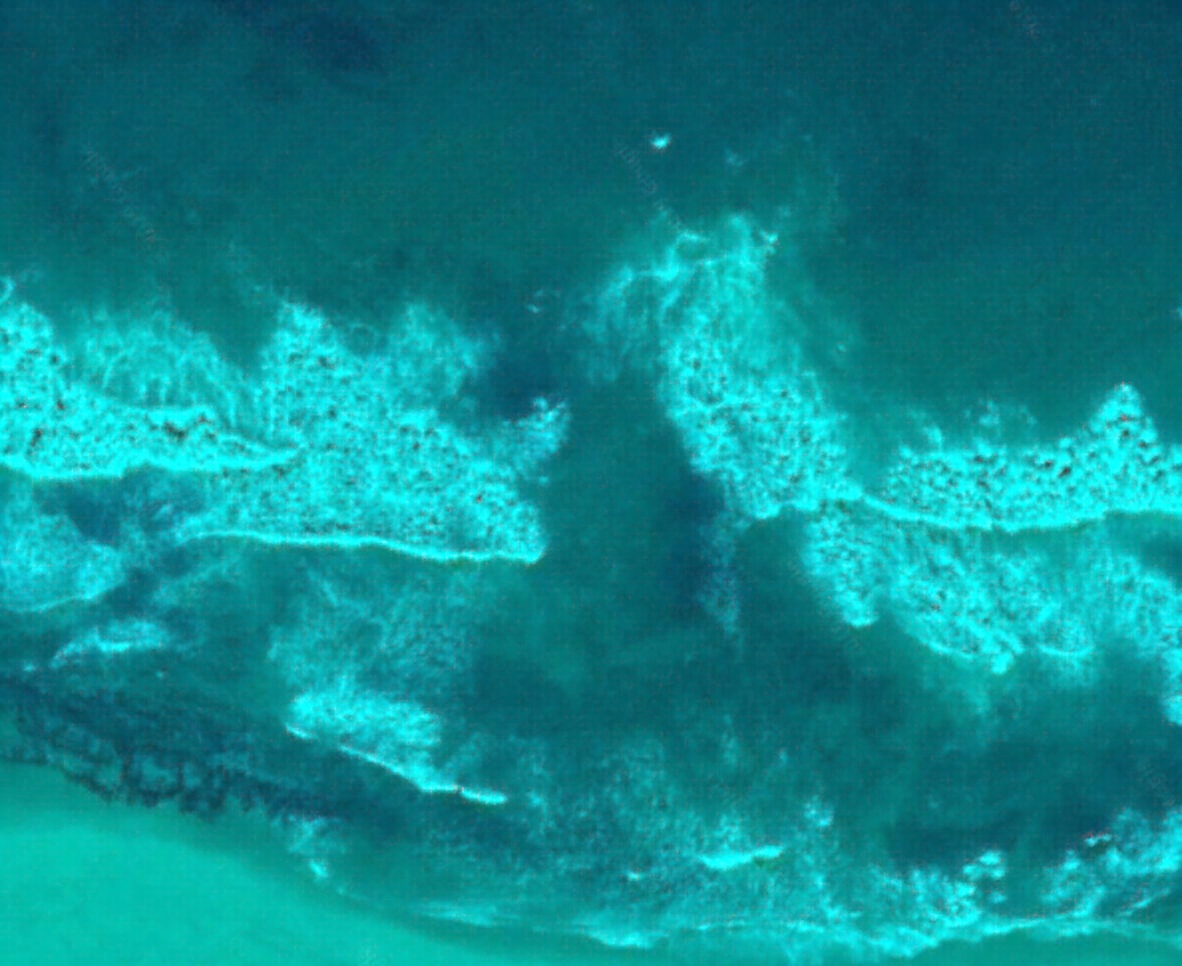rip_current: (426, 134, 805, 773)
